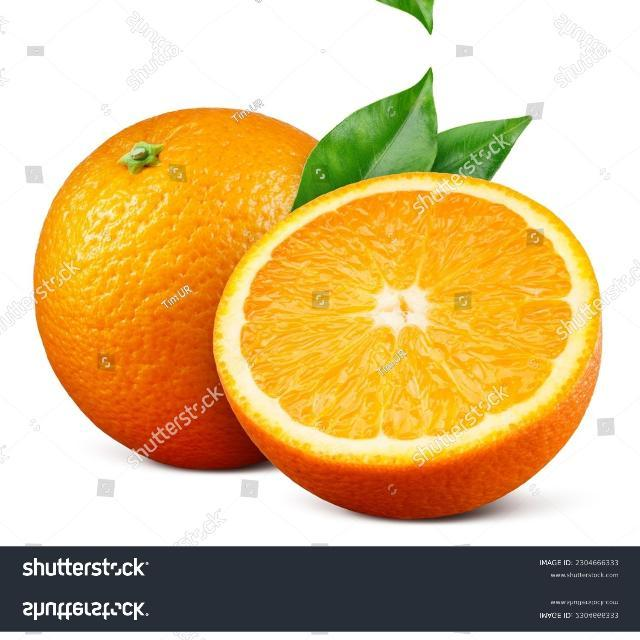Orange: (211, 169, 603, 520), (31, 105, 321, 470)
